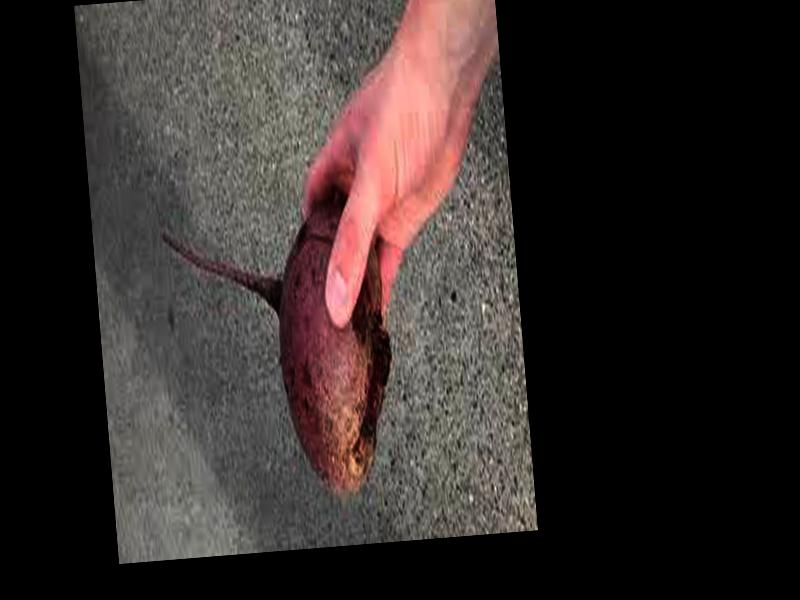Beet: (162, 205, 401, 505)
